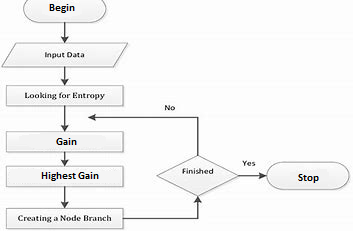arrow: (86, 113, 200, 158), (123, 195, 202, 221), (59, 21, 70, 44), (236, 172, 267, 180), (60, 105, 69, 132), (60, 185, 69, 209), (61, 65, 69, 85), (60, 150, 68, 167)
data: (1, 41, 130, 69)
decision: (156, 154, 241, 197)
process: (4, 83, 125, 108), (4, 130, 125, 154), (5, 165, 124, 188), (5, 207, 125, 229)
terminator: (266, 160, 352, 191), (22, 1, 108, 23)
text: (16, 213, 112, 224), (23, 91, 105, 101), (40, 170, 99, 181), (47, 2, 76, 13), (181, 166, 213, 175), (44, 51, 85, 58), (296, 172, 320, 183), (54, 136, 77, 146), (241, 159, 259, 167), (163, 104, 175, 112)
